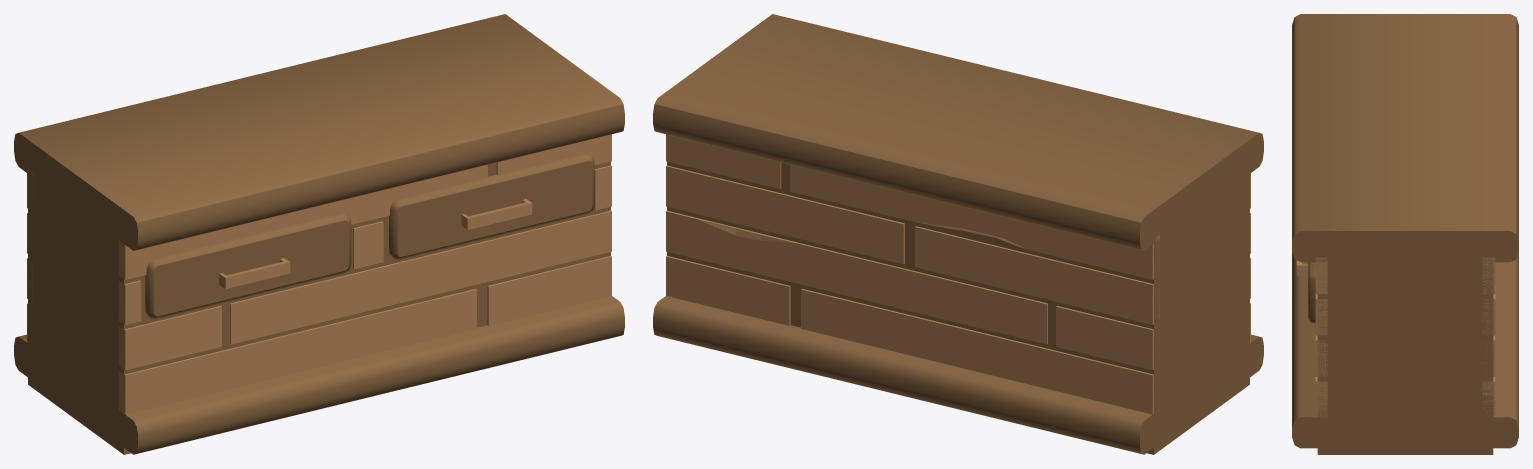
File: counter-drawers.glb
3 renders of one model, left to right at view 1: azimuth 30°, elevation 25°; view 2: azimuth 150°, elevation 25°; view 3: azimuth 270°, elevation 25°, orthographic. The views are drawn at different scales.
Parts seen in each view (by area): view 1: Environment_Counter_Drawers; view 2: Environment_Counter_Drawers; view 3: Environment_Counter_Drawers.
Boxes of the visible parts, x1,y1,x2,y2 form: Environment_Counter_Drawers: (14, 14, 624, 454); Environment_Counter_Drawers: (653, 14, 1263, 454); Environment_Counter_Drawers: (1292, 14, 1518, 454).
Size of the model in its own units: 4 by 1.92 by 1.77.
